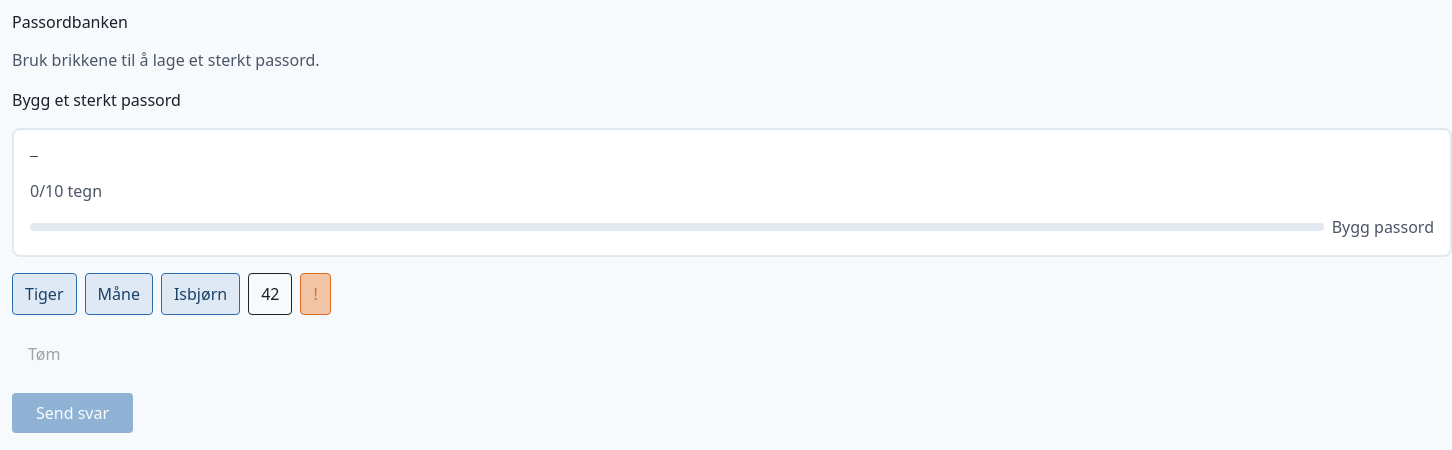
it: PasswordTask › keeps the submit button disabled until the builder password is strong enough
Check: the text with class "builder__strength-label" reads "Bygg passord", box [1332,216,1434,238]
Check: the button with class "submit-btn" is disabled, box [12,393,133,433]
Click the button with class "tile--word" showing "Tiger". click: (44, 294)
box: [12,273,76,315]
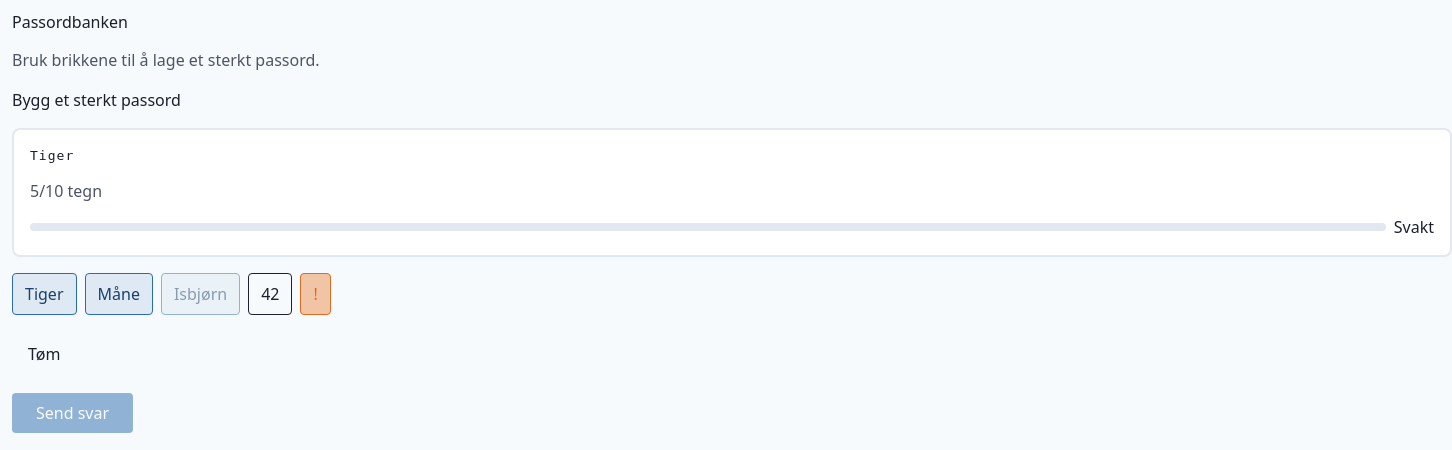
Click the button with class "tile--word" showing "Måne". click: (119, 294)
box: [84,273,153,315]
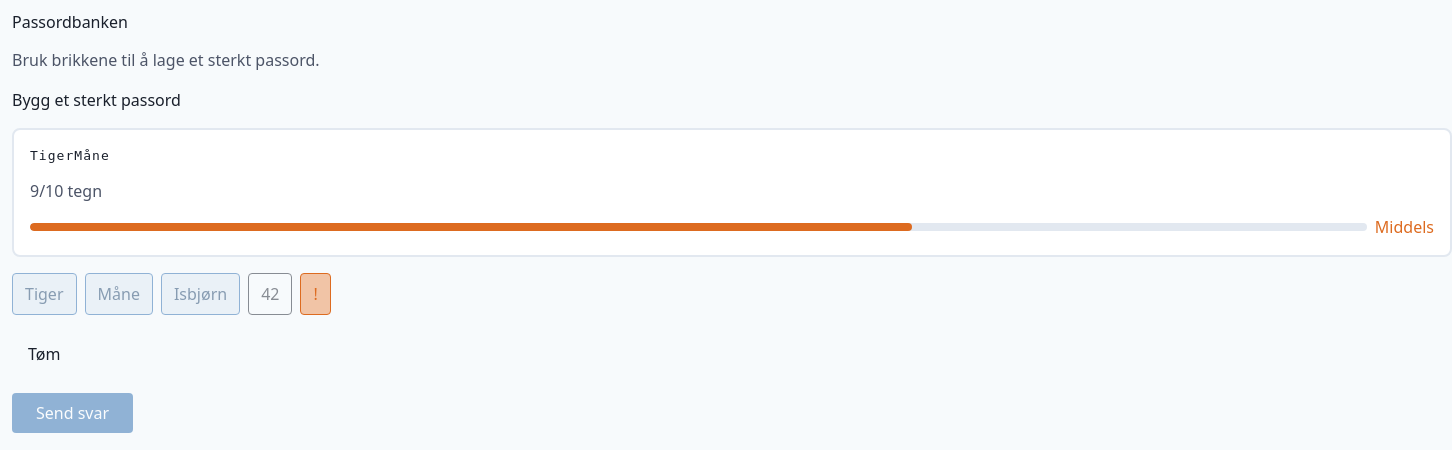
Check: the button with class "submit-btn" is disabled, box [12,393,133,433]
Check: the text with class "builder__strength-label" reads "Middels", box [1375,216,1434,238]
Click the button with class "clear-btn". click: (44, 354)
box: [12,331,76,377]
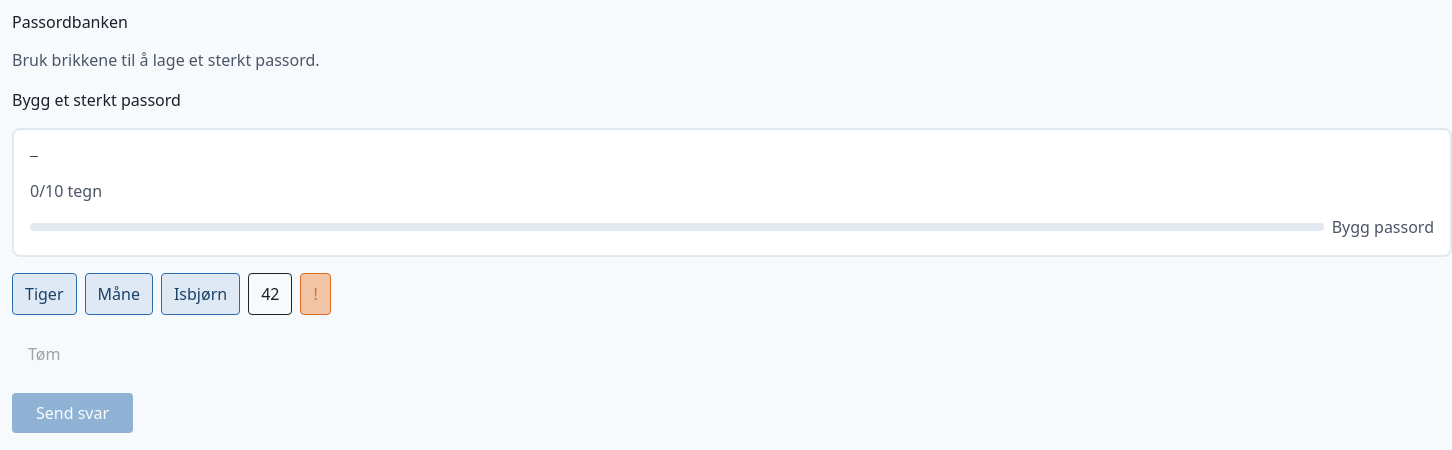
Click the button with class "tile--word" showing "Tiger". click: (44, 294)
box: [12,273,76,315]
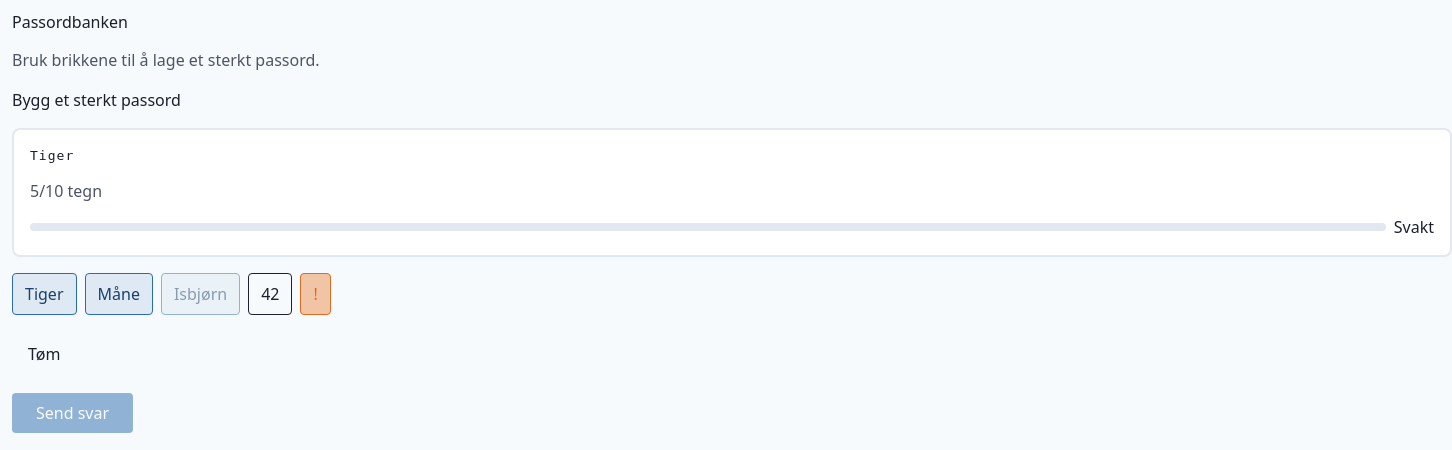
Click the button with class "tile--number". click: (270, 294)
box: [248,273,292,315]
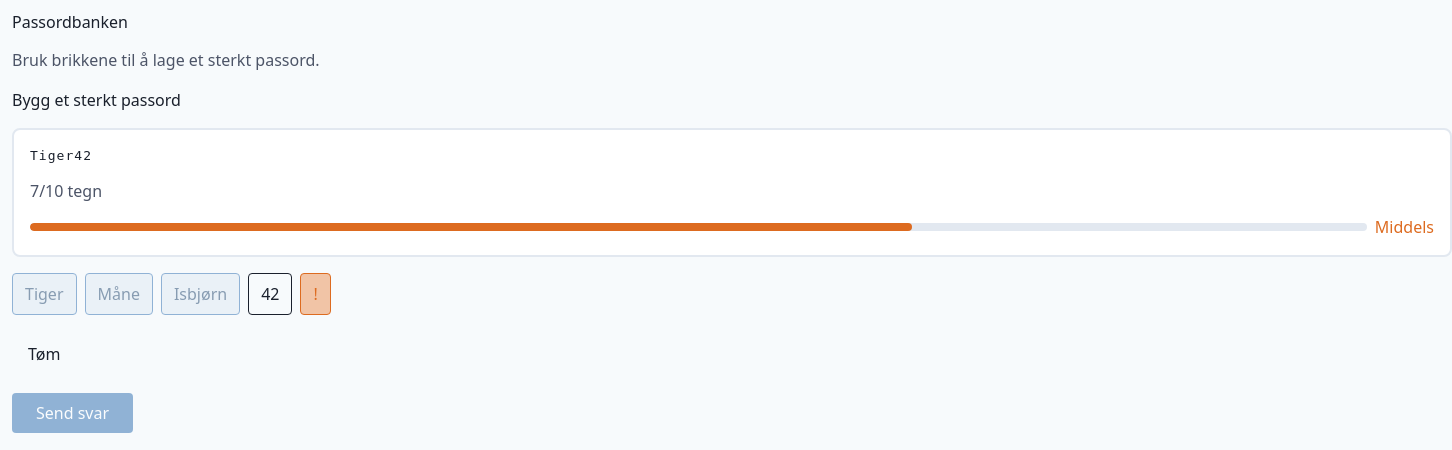
Click the button with class "tile--symbol". click: (316, 294)
box: [300,273,331,315]
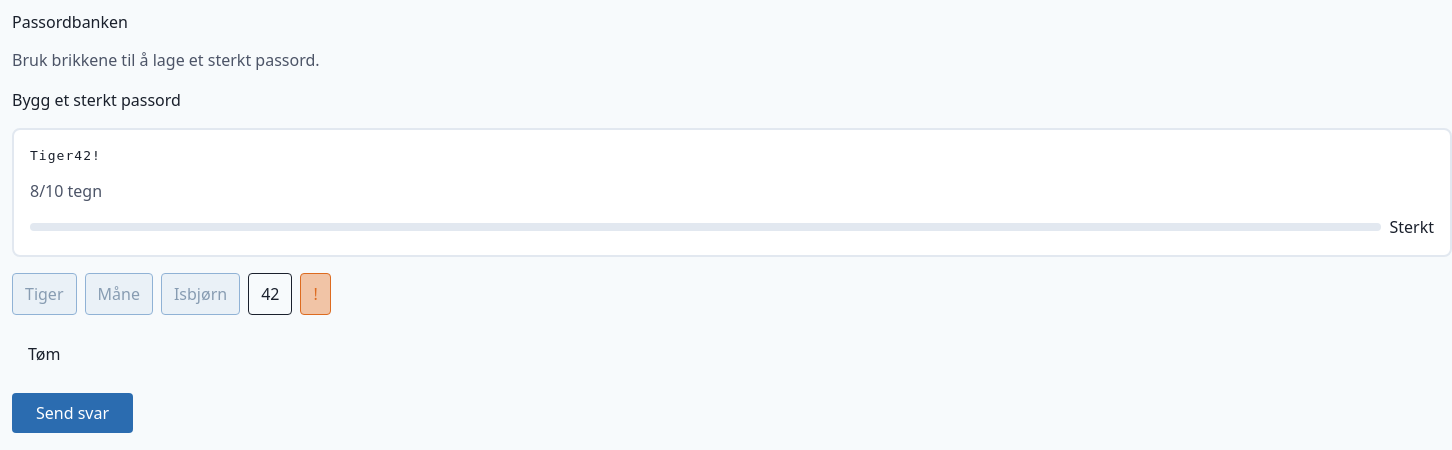
Check: the text with class "builder__strength-label" reads "Sterkt", box [1390,216,1434,238]
Check: the button with class "submit-btn" is enabled, box [12,393,133,433]
